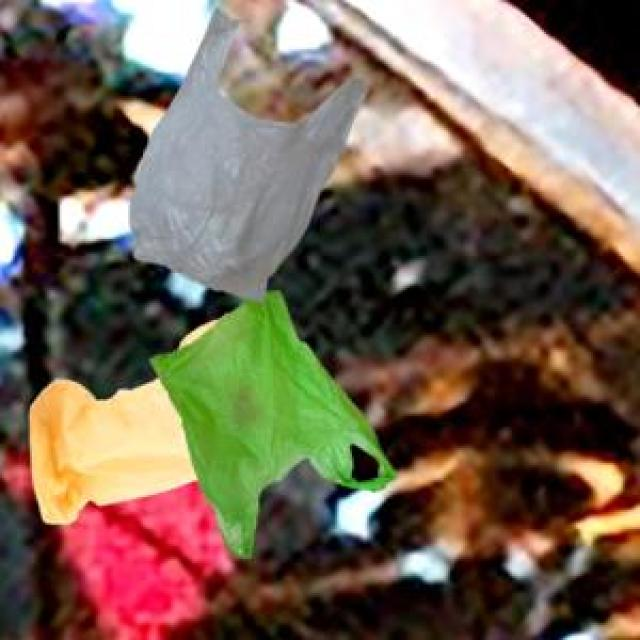plastic: (19, 1, 506, 630)
